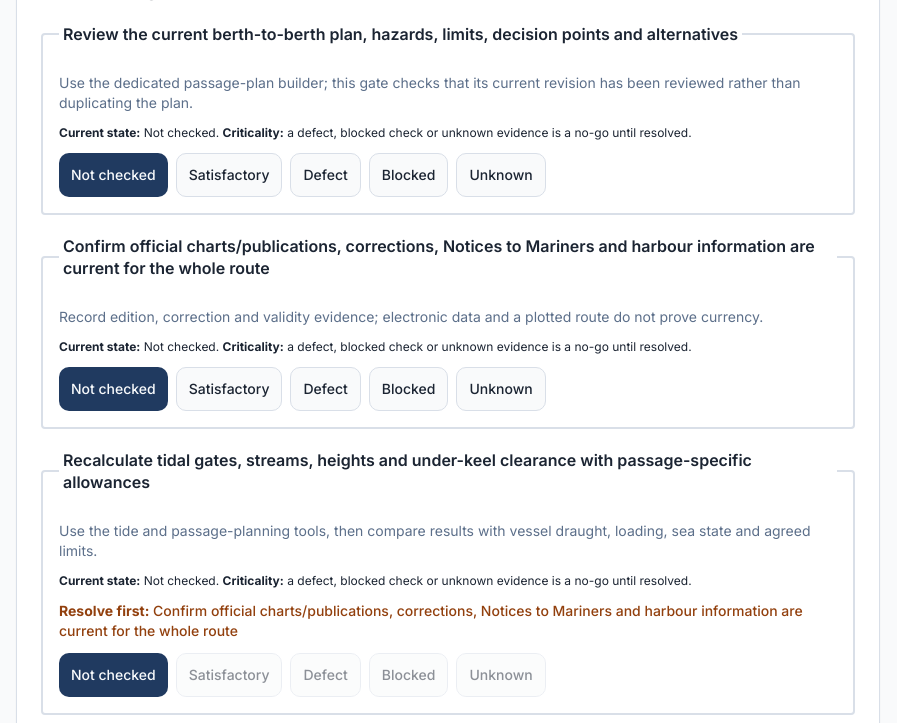
Scenario: PreDepartureChecklist › requires an authority reason for N/A and supports correcting the record
(page scrolled)
Click the 2nd button "Satisfactory" at (229, 389), box [176,367,282,411]
(page scrolled)
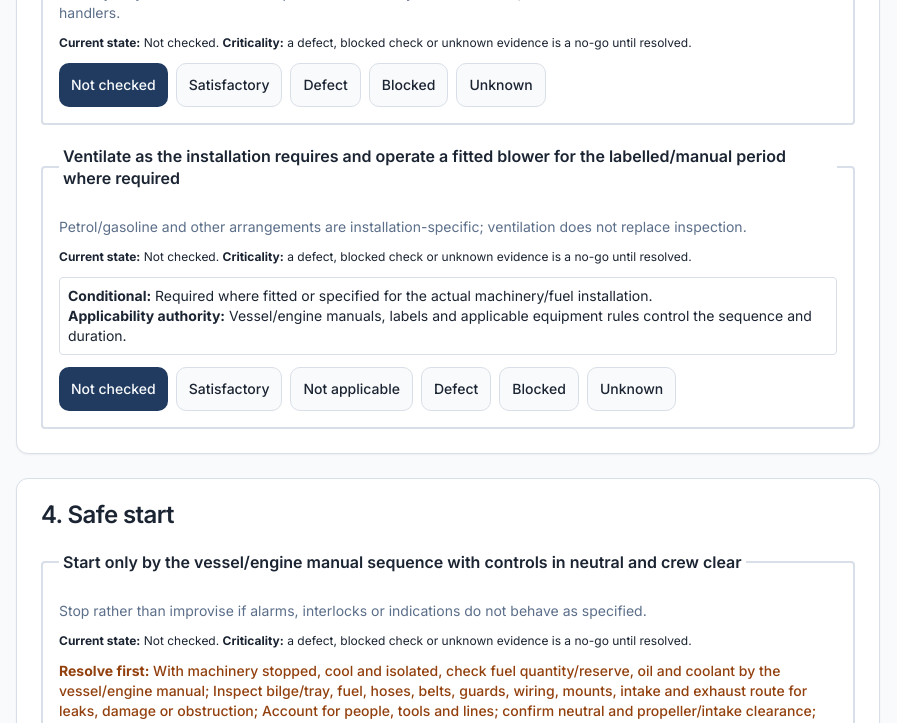
Click the button "Not applicable" at (352, 389), box [290,367,413,411]
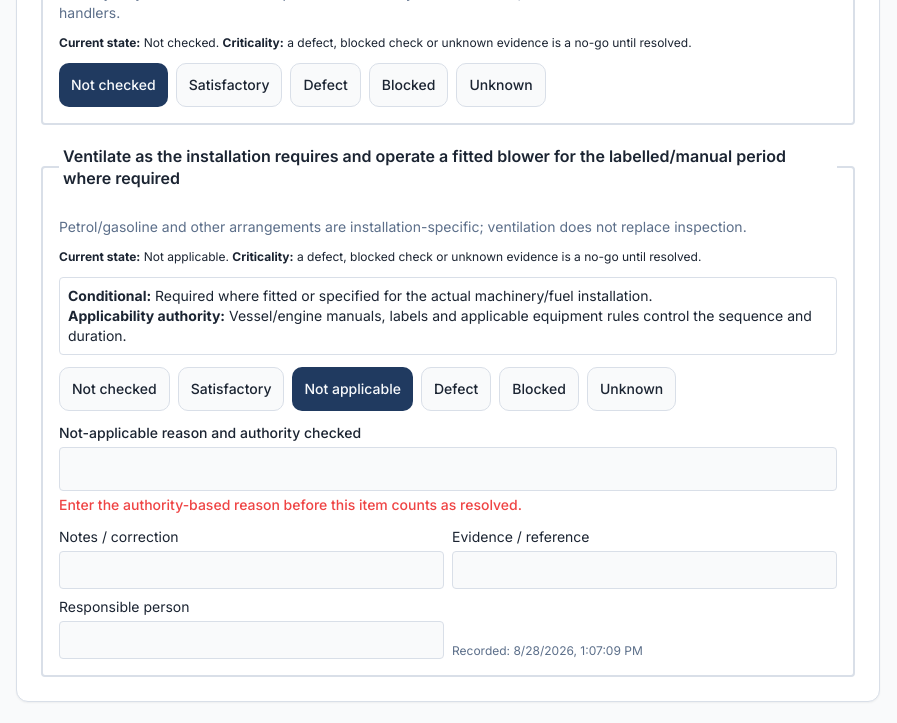
Type "No powered equipment fitted; COLREG and vessel requirements checked" into the field labelled "Not-applicable reason" at (448, 469), box [59,447,837,491]
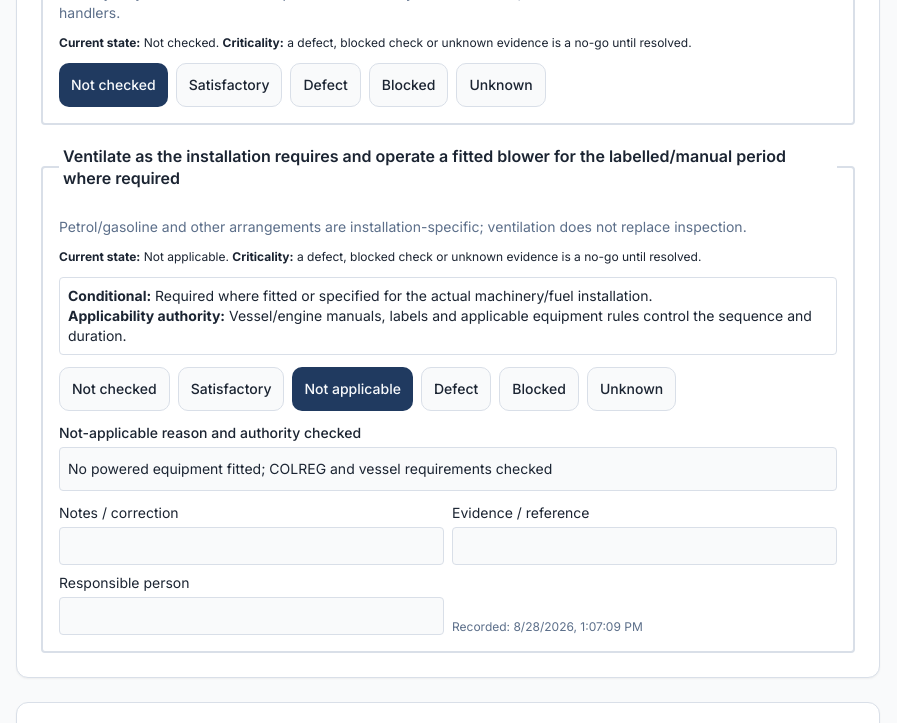
Now the field labelled "Not-applicable reason and authority checked" is not marked as invalid, box [59,447,837,491]
Click the 2nd button "Satisfactory" at (231, 389), box [178,367,284,411]
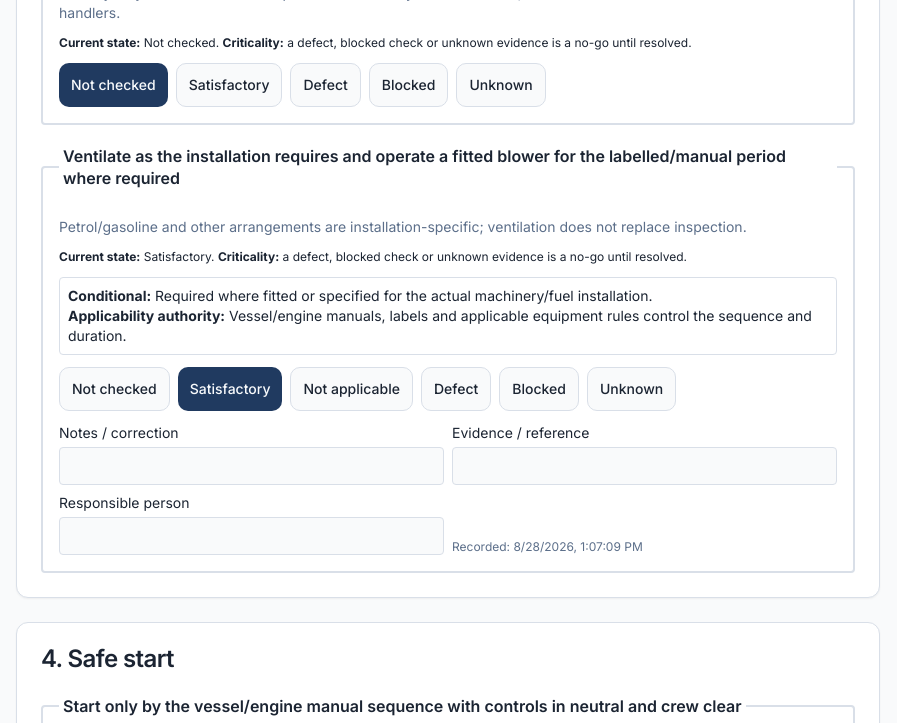
Now the label "Not-applicable reason" is gone
